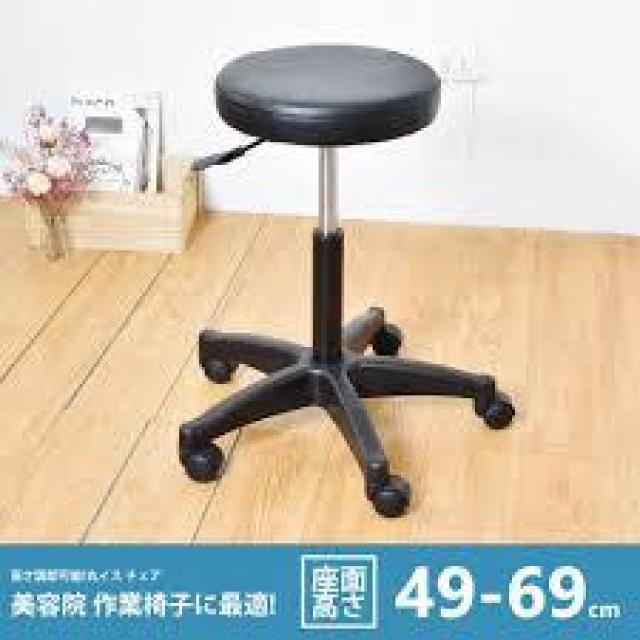chair: (138, 46, 513, 520)
